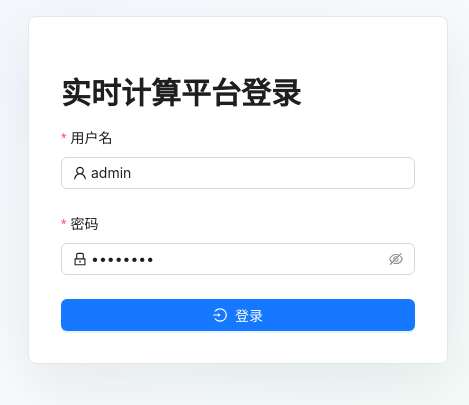
LoginPage › goes to the verify step (not setup) when 2FA is already bound
This screenshot has width=469, height=405.
Click the button "登录": coordinates (238, 315) [61,299,415,331]
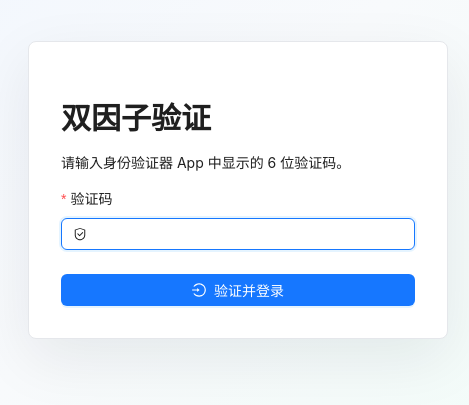
Expected: the heading "双因子验证" is shown, [61,100,211,136]
Expected: the text "请输入身份验证器 App 中显示的 6 位验证码。" is shown, [61,154,350,171]
